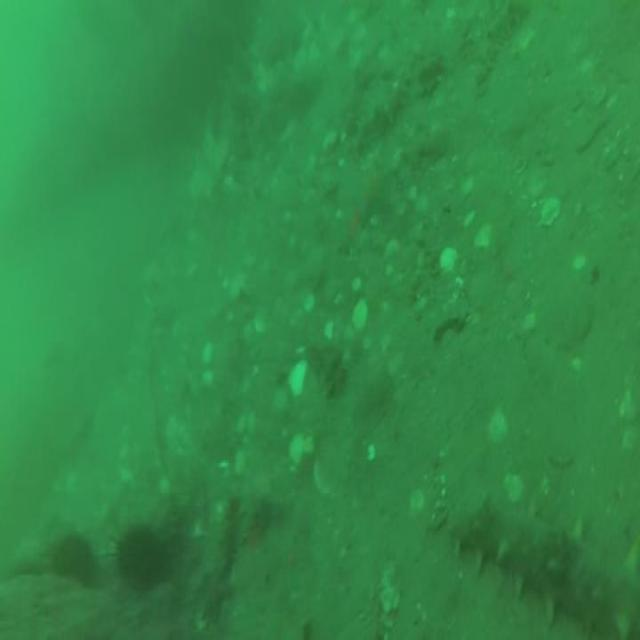echinus: (115, 526, 169, 585), (54, 540, 99, 582)
holothurian: (451, 499, 640, 639), (215, 494, 241, 574)
starfish: (336, 155, 396, 226), (197, 567, 230, 621)
